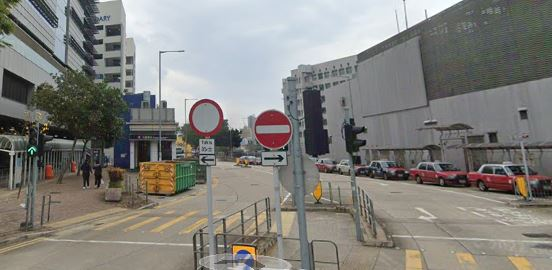No Car: (187, 98, 224, 136)
No Enter: (254, 109, 294, 151)
